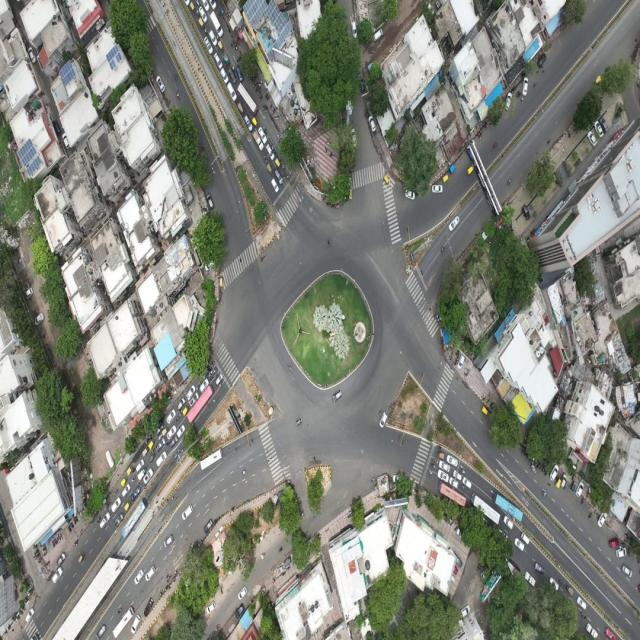3W: (76, 548, 86, 565), (593, 71, 603, 88), (466, 164, 479, 177), (126, 462, 136, 478), (554, 476, 564, 492), (123, 499, 133, 513), (448, 161, 458, 175), (566, 582, 574, 598), (236, 101, 245, 115), (120, 476, 130, 488), (148, 438, 157, 451), (480, 405, 489, 418), (250, 116, 258, 130), (266, 162, 274, 176), (383, 172, 390, 188), (441, 172, 449, 186), (182, 405, 192, 416), (141, 446, 150, 458), (198, 16, 205, 30), (274, 156, 281, 169), (148, 454, 157, 464), (436, 451, 446, 460), (217, 40, 224, 52), (190, 2, 196, 15), (161, 426, 168, 437)
Bus: (119, 492, 149, 543), (490, 488, 527, 526), (186, 382, 215, 426), (470, 491, 502, 529), (436, 479, 468, 509), (112, 604, 136, 640), (237, 81, 260, 117), (197, 445, 224, 474)
Cars: (201, 514, 216, 536), (142, 594, 155, 618), (154, 72, 167, 95), (204, 188, 216, 212), (133, 560, 144, 586), (182, 500, 195, 522), (154, 449, 168, 469), (145, 560, 157, 583), (592, 119, 605, 140), (98, 511, 112, 530), (596, 508, 608, 530), (56, 550, 70, 568), (130, 614, 142, 635), (202, 35, 214, 56), (548, 462, 560, 483), (51, 567, 64, 586), (227, 81, 238, 103), (378, 409, 389, 431), (232, 603, 246, 620), (110, 496, 123, 514), (95, 622, 108, 640), (162, 532, 175, 550), (533, 558, 546, 576), (204, 598, 217, 616), (199, 376, 210, 397), (599, 113, 610, 134), (504, 90, 514, 113), (576, 592, 588, 611), (614, 546, 628, 562), (445, 452, 459, 468), (330, 388, 344, 404), (131, 484, 142, 504), (198, 4, 209, 24), (548, 575, 560, 593), (514, 535, 526, 553), (604, 626, 619, 640), (113, 511, 124, 530), (143, 466, 154, 485), (257, 126, 268, 145), (536, 53, 549, 69), (586, 132, 599, 148), (390, 471, 406, 484), (120, 482, 132, 499), (448, 216, 460, 233), (503, 515, 515, 532), (575, 479, 585, 499), (155, 435, 166, 453), (166, 408, 177, 426), (189, 391, 200, 409), (357, 73, 366, 95), (621, 564, 634, 579), (436, 469, 449, 484), (24, 607, 36, 623), (608, 534, 620, 550), (237, 586, 249, 602), (265, 143, 275, 162), (274, 167, 284, 186), (372, 26, 382, 45), (351, 125, 359, 148), (403, 188, 417, 201), (154, 419, 164, 437), (209, 28, 218, 48), (236, 64, 245, 84), (521, 76, 530, 96), (522, 204, 532, 222), (560, 470, 569, 490), (438, 459, 450, 474), (135, 458, 146, 474), (175, 423, 186, 439), (350, 19, 358, 41), (244, 114, 253, 133), (214, 370, 224, 387), (270, 178, 280, 195), (168, 436, 180, 450), (214, 52, 223, 70), (220, 67, 229, 85), (456, 353, 465, 371), (167, 424, 177, 440), (228, 67, 238, 83), (521, 530, 531, 546), (432, 183, 444, 196), (462, 476, 473, 490), (186, 384, 196, 399), (200, 0, 210, 14), (369, 114, 376, 134), (449, 477, 459, 491), (452, 468, 462, 482), (178, 396, 186, 412), (208, 0, 218, 11)
LCV: (210, 10, 224, 39), (522, 568, 538, 588), (252, 128, 265, 152), (584, 621, 599, 640), (220, 49, 231, 66), (136, 466, 148, 481)
M2W: (275, 542, 284, 554), (157, 585, 164, 599), (214, 621, 221, 633), (218, 583, 224, 596), (287, 363, 294, 374), (175, 90, 181, 101), (634, 37, 638, 53), (580, 611, 587, 620), (266, 456, 273, 465), (116, 606, 123, 615), (38, 556, 44, 566), (73, 538, 79, 548), (131, 474, 137, 484), (142, 484, 148, 494), (157, 431, 163, 441), (262, 124, 268, 134), (516, 90, 522, 100), (627, 546, 632, 558), (559, 578, 565, 588), (427, 466, 433, 476), (113, 488, 120, 496), (46, 559, 51, 570), (97, 514, 102, 525), (238, 255, 243, 266), (32, 542, 38, 551), (201, 143, 207, 152), (203, 26, 209, 35), (492, 141, 498, 150), (476, 132, 482, 141), (506, 177, 512, 186), (542, 489, 548, 498), (587, 511, 593, 520), (242, 468, 248, 477), (59, 532, 64, 542), (70, 519, 75, 529), (132, 464, 137, 474), (145, 436, 150, 446), (211, 166, 216, 176), (173, 71, 178, 81), (266, 133, 271, 143), (263, 154, 268, 164), (282, 173, 287, 183), (460, 484, 467, 491), (436, 444, 443, 451), (43, 549, 49, 557), (459, 462, 465, 470), (67, 524, 72, 533), (104, 503, 109, 512), (440, 245, 445, 254), (150, 448, 156, 455), (371, 477, 377, 484), (51, 540, 56, 548), (179, 409, 183, 419), (218, 379, 222, 389), (216, 34, 221, 42), (232, 64, 236, 74), (224, 62, 228, 72), (234, 43, 239, 51), (259, 94, 263, 104), (269, 103, 273, 113), (271, 142, 275, 152), (274, 150, 278, 160), (542, 464, 547, 472), (580, 496, 585, 504), (433, 457, 438, 465), (34, 550, 40, 556), (138, 480, 144, 486), (259, 79, 263, 88), (262, 103, 266, 112), (287, 173, 291, 182), (520, 446, 524, 455), (524, 447, 527, 459), (536, 462, 540, 471), (545, 466, 548, 478), (624, 532, 630, 538), (460, 468, 466, 474), (166, 439, 171, 446), (209, 375, 214, 382), (213, 367, 218, 374), (195, 0, 200, 7), (257, 88, 262, 95), (276, 114, 281, 121), (327, 239, 332, 246), (431, 463, 436, 470), (74, 517, 78, 525), (200, 0, 204, 8), (279, 158, 283, 166), (282, 164, 286, 172), (227, 24, 230, 34), (250, 78, 256, 83), (254, 85, 260, 90), (264, 93, 270, 98), (266, 95, 271, 101), (621, 540, 626, 546), (176, 416, 180, 423), (196, 384, 200, 391), (196, 10, 200, 17), (253, 81, 257, 88), (55, 536, 58, 545), (265, 105, 268, 114), (213, 374, 218, 379), (208, 370, 212, 376), (210, 360, 216, 364), (249, 73, 252, 80), (273, 107, 276, 114), (532, 456, 534, 466)
